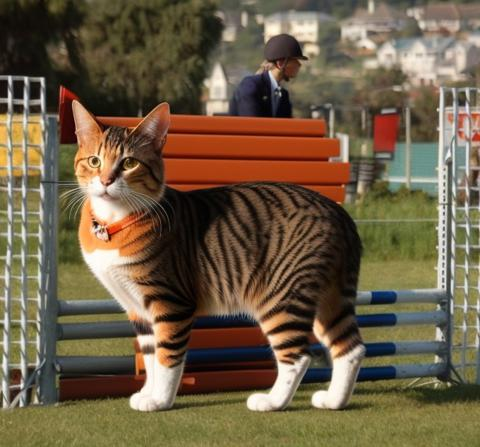cat: (59, 98, 376, 411)
person: (192, 33, 310, 272)
